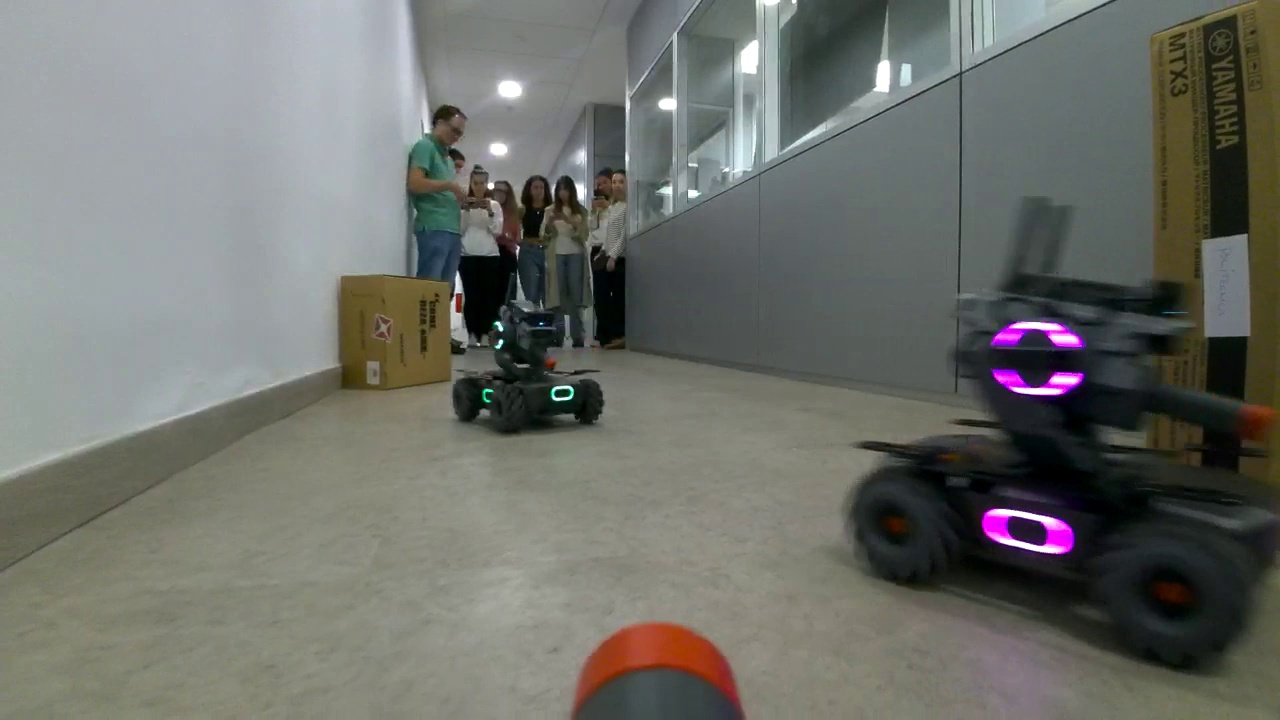robot: (846, 275, 1280, 675), (449, 303, 609, 437)
